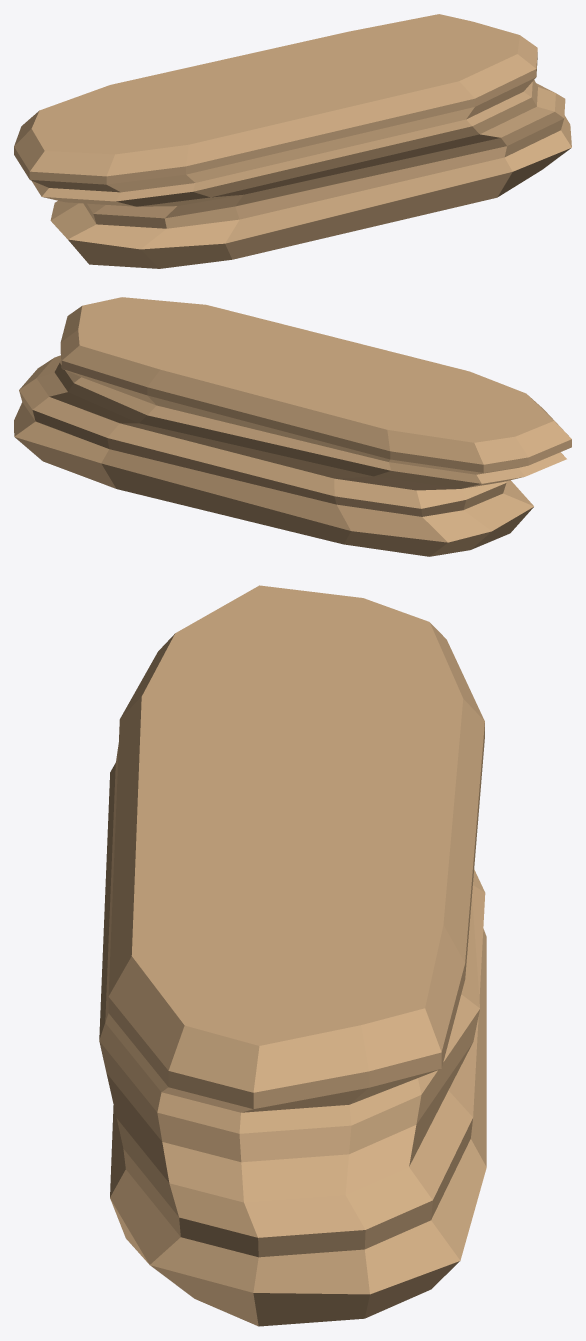
File: Rock_Flat_l_03.fbx
The picture shows the model from 3 angles, top to bottom: view 1: azimuth 30°, elevation 25°; view 2: azimuth 150°, elevation 25°; view 3: azimuth 270°, elevation 25°; orthographic projection. The views are drawn at different scales.
Parts seen in each view (by area): view 1: Rock_Flat_l_03; view 2: Rock_Flat_l_03; view 3: Rock_Flat_l_03.
Boxes of the visible parts, x1,y1,x2,y2 form: Rock_Flat_l_03: (14, 14, 571, 268); Rock_Flat_l_03: (14, 297, 571, 556); Rock_Flat_l_03: (99, 585, 486, 1326).
Size of the model in its own units: 522 by 115 by 163.
